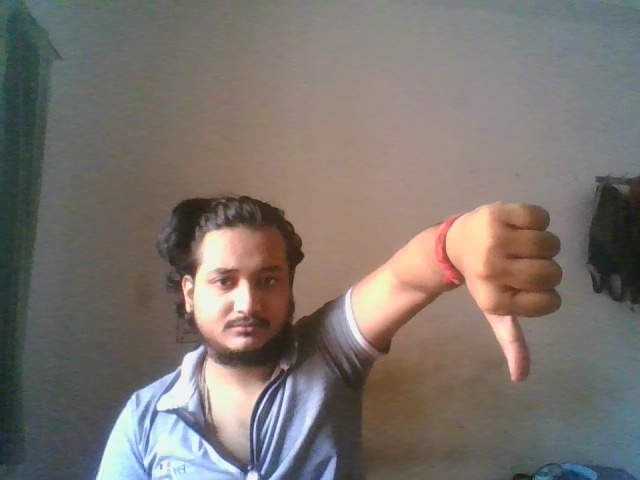ThumbsDown: (455, 198, 564, 382)
